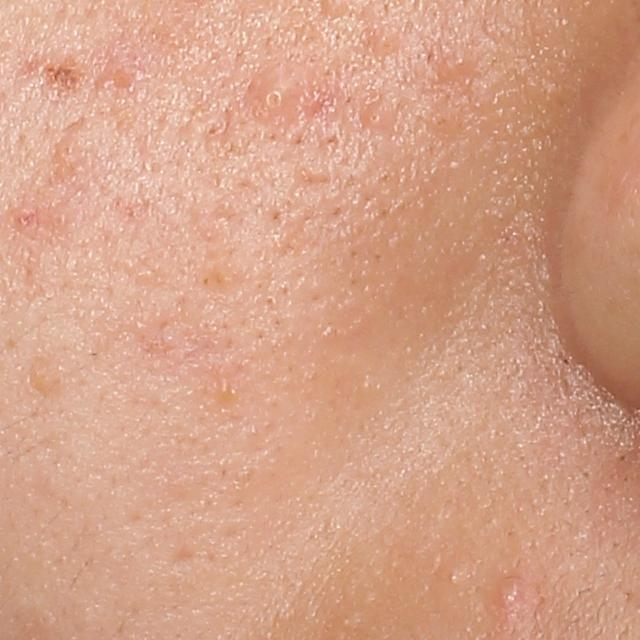atrophic_scar: (165, 544, 194, 576)
comedo: (26, 356, 66, 400), (359, 99, 399, 136), (432, 42, 468, 76), (447, 571, 460, 587)
nevus: (38, 47, 87, 97)
papule: (237, 67, 307, 126), (98, 46, 144, 109), (498, 583, 528, 608)
